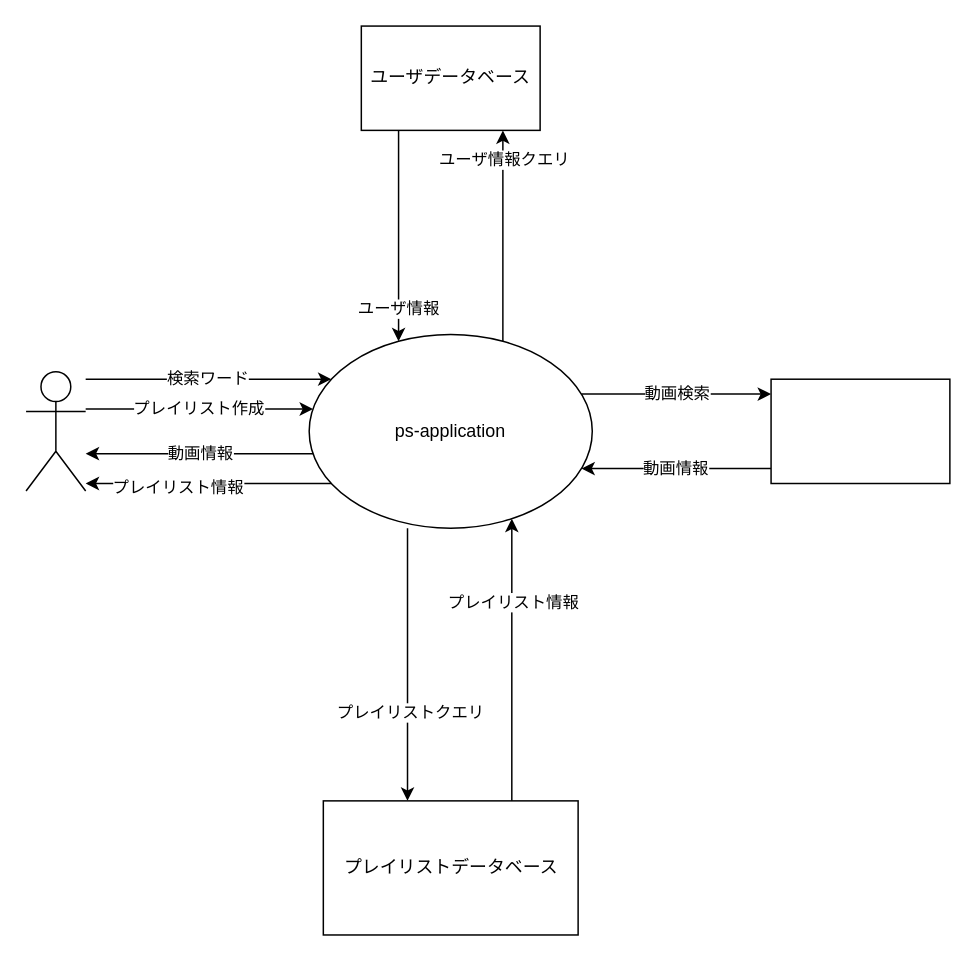
This 976x961 diagram has some shape labels left out. Here are the shapes that lost their labels. From the top down, the centre of each, then its label:
point (55, 430): Actor
point (860, 431): YouTube
